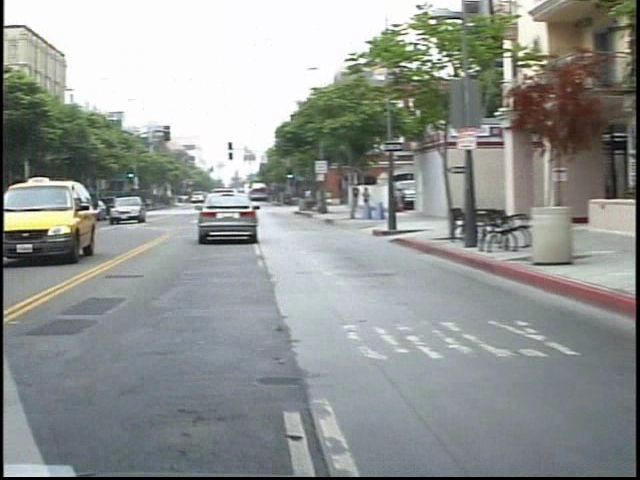person: (349, 186, 364, 221)
